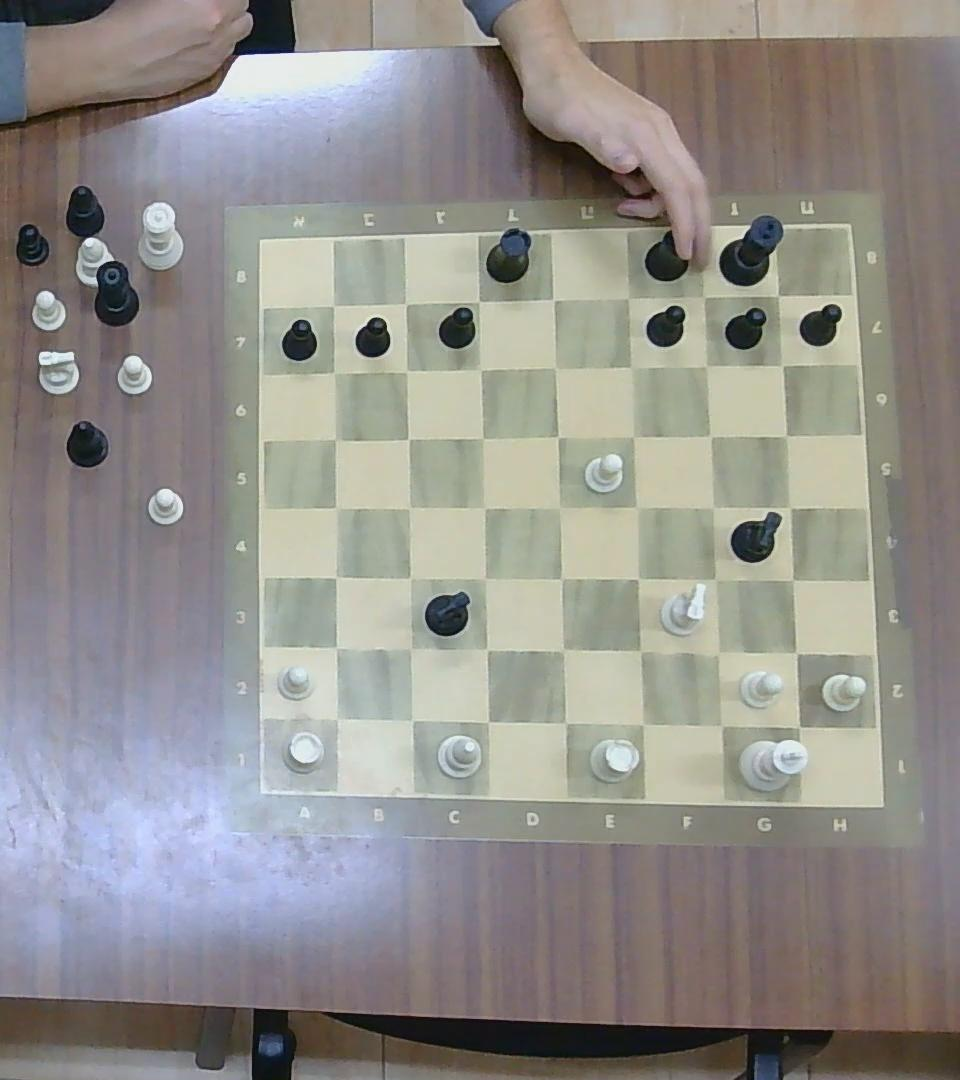xcorner: (781, 708, 815, 742), (703, 707, 738, 740), (624, 707, 659, 740), (548, 705, 580, 739), (702, 636, 734, 669), (624, 635, 656, 667), (547, 633, 578, 665), (470, 633, 501, 665), (780, 637, 812, 668), (396, 703, 427, 734), (320, 701, 351, 732), (394, 632, 425, 663), (622, 563, 652, 594), (471, 705, 502, 735), (547, 563, 577, 594), (700, 563, 730, 594), (623, 491, 652, 521), (776, 564, 806, 593), (320, 562, 350, 591), (470, 564, 500, 593), (698, 491, 728, 520), (545, 493, 574, 522), (321, 633, 350, 662), (470, 492, 499, 520), (467, 422, 495, 451), (538, 284, 566, 313), (543, 421, 572, 449), (619, 421, 648, 449), (775, 492, 804, 520), (616, 352, 645, 380), (393, 425, 422, 452), (395, 494, 423, 521), (395, 563, 423, 590), (322, 494, 350, 521), (615, 285, 643, 312), (321, 426, 349, 451), (393, 356, 419, 382), (697, 422, 723, 448), (465, 287, 491, 313), (541, 353, 567, 379), (322, 358, 348, 384), (690, 284, 716, 309), (693, 353, 719, 378), (467, 355, 492, 380), (393, 291, 418, 315), (773, 423, 798, 447), (322, 293, 345, 317), (770, 352, 793, 376), (767, 285, 790, 305)
